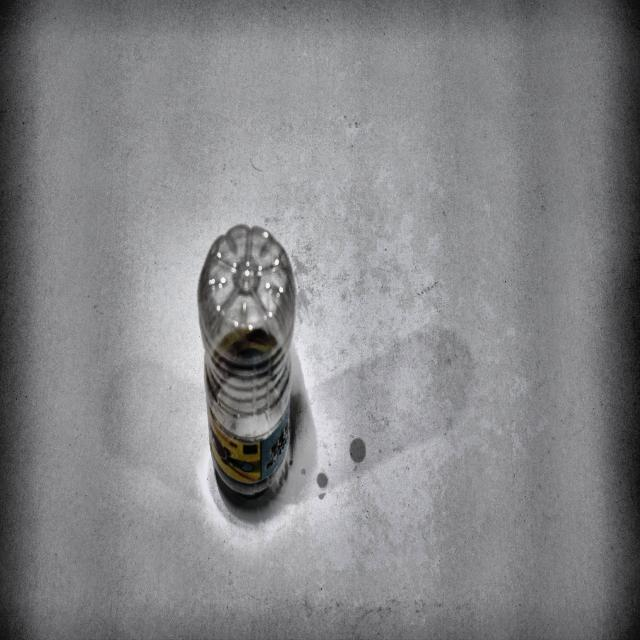Bottles: (192, 209, 300, 519)
